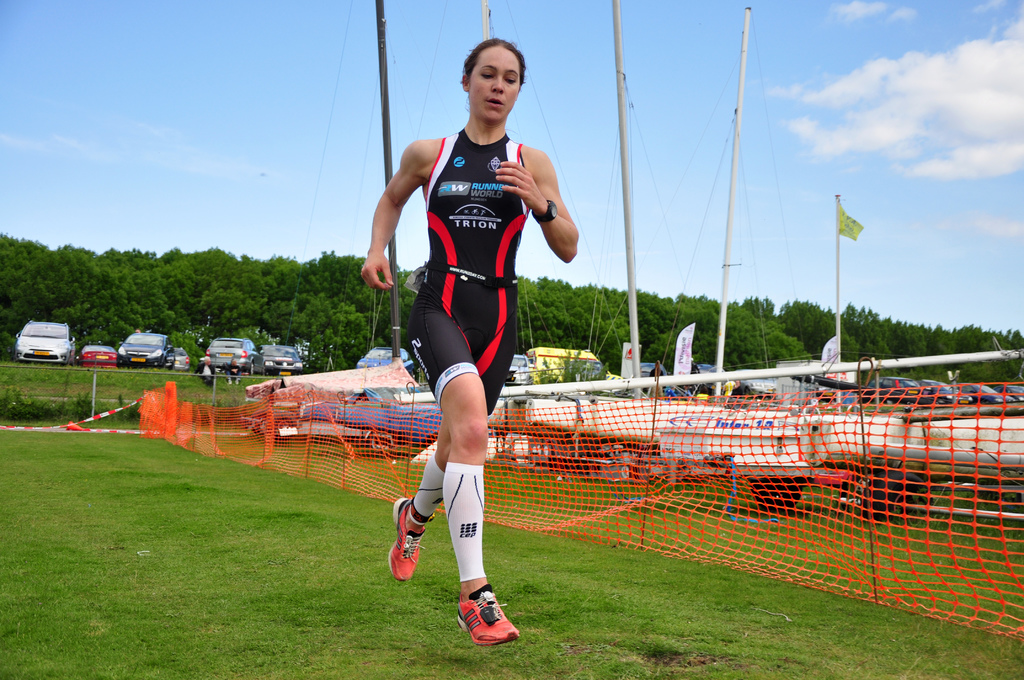Person: (360, 36, 579, 644), (221, 355, 240, 389), (194, 356, 215, 386)
